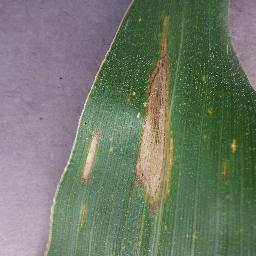Corn_Blight: (128, 8, 175, 225), (76, 122, 101, 230), (215, 125, 247, 184), (184, 224, 205, 246), (201, 100, 218, 120)
